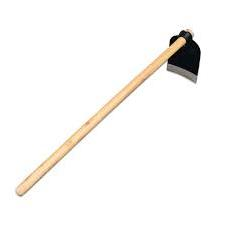HOUE: (5, 19, 208, 204)
